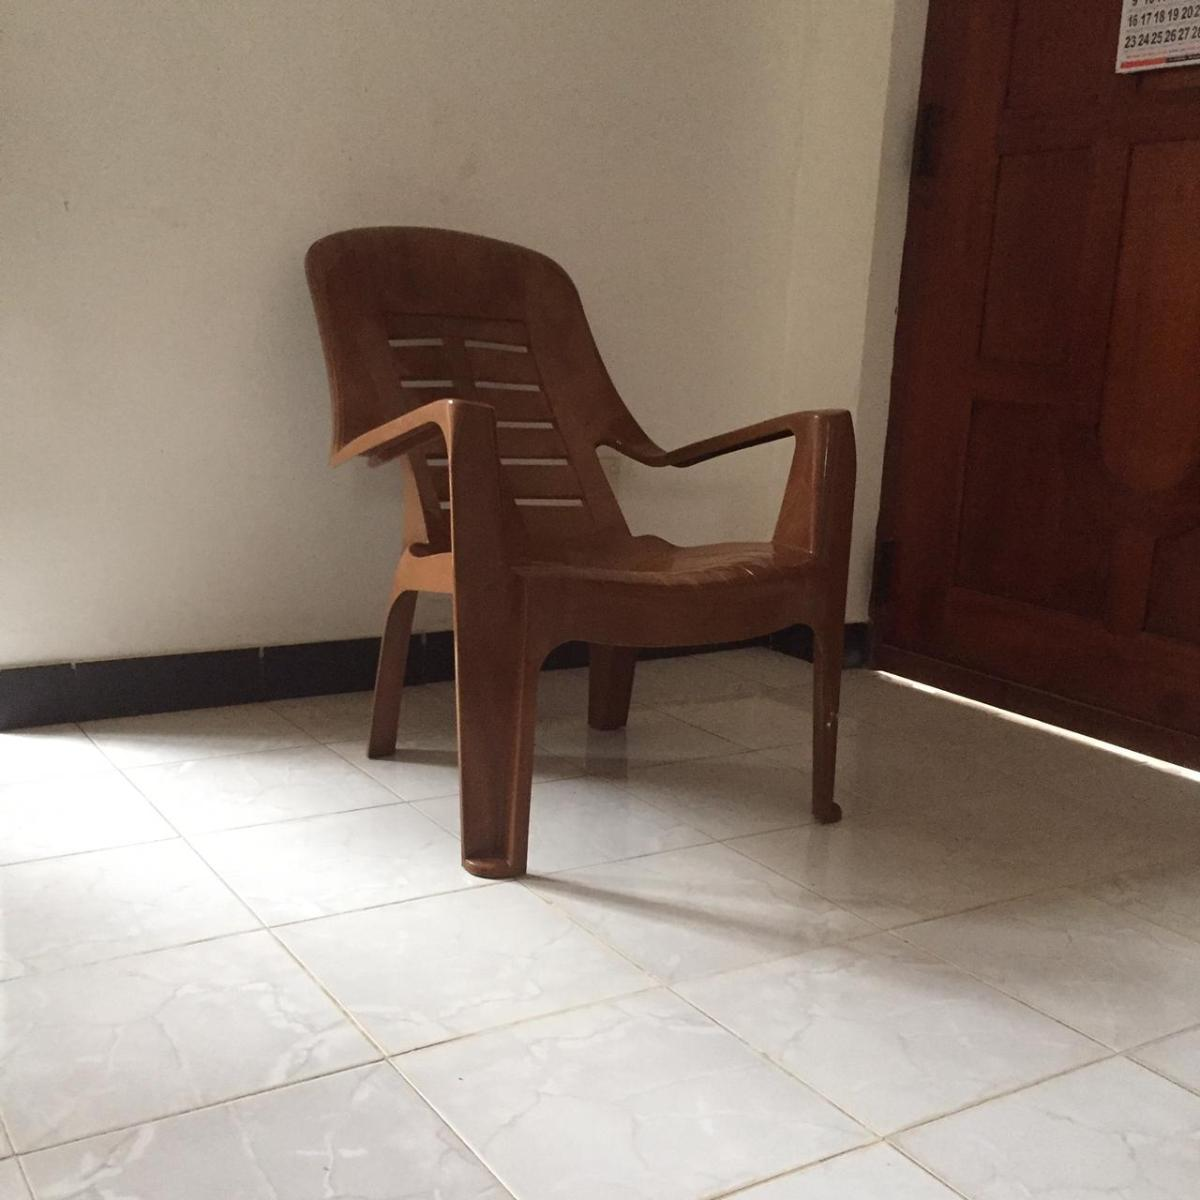Chair: (301, 224, 856, 877)
